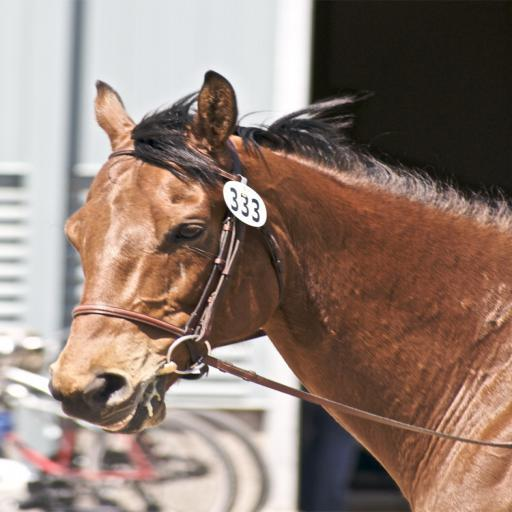Horse: (47, 70, 512, 512)
